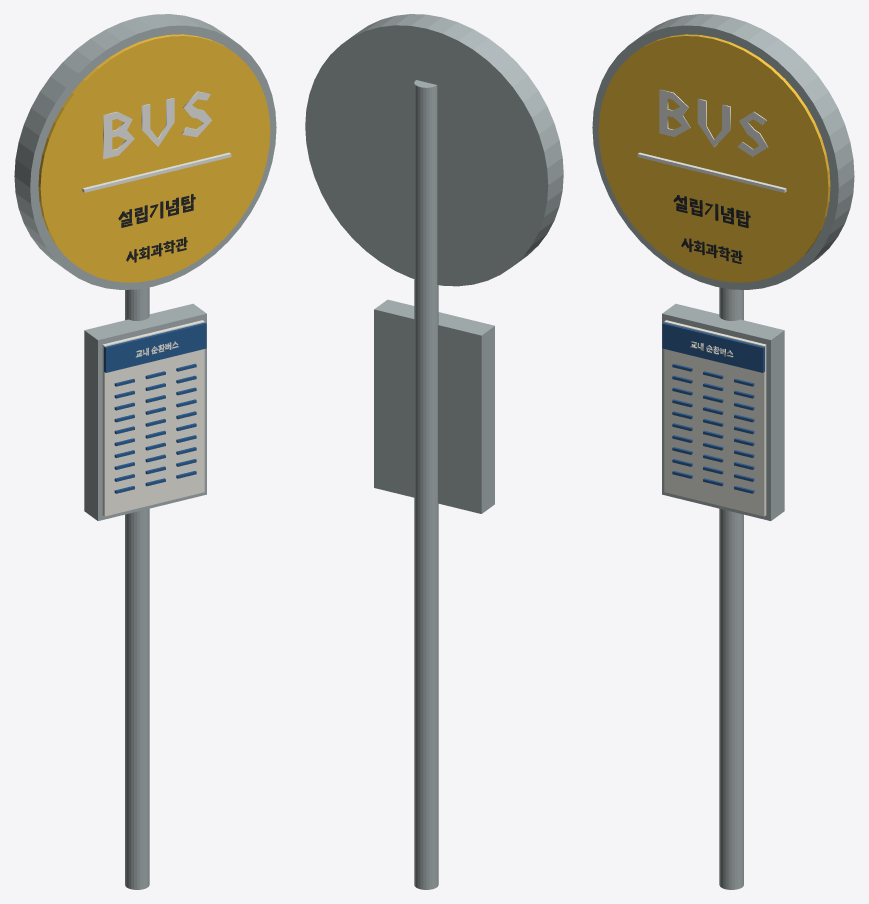
Rendered from bus_stop_sign.glb.
3 renders of one model, left to right at view 1: azimuth 30°, elevation 25°; view 2: azimuth 150°, elevation 25°; view 3: azimuth 330°, elevation 25°, orthographic.
Parts seen in each view (by area): view 1: Circular yellow BUS face, CHOSUN_BUS_STOP_SIGN__Brushed aluminium, Timetable white face, CHOSUN_BUS_STOP_SIGN__Campus blue, CHOSUN_BUS_STOP_SIGN__Coach pearl ivory, CHOSUN_BUS_STOP_SIGN__Rubber charcoal; view 2: CHOSUN_BUS_STOP_SIGN__Brushed aluminium; view 3: Circular yellow BUS face, CHOSUN_BUS_STOP_SIGN__Brushed aluminium, Timetable white face, CHOSUN_BUS_STOP_SIGN__Campus blue, CHOSUN_BUS_STOP_SIGN__Coach pearl ivory, CHOSUN_BUS_STOP_SIGN__Rubber charcoal.
Part boxes in pixels (bbox=[...]): Circular yellow BUS face: bbox=[38, 34, 270, 282]; CHOSUN_BUS_STOP_SIGN__Brushed aluminium: bbox=[14, 14, 276, 889]; Timetable white face: bbox=[102, 320, 204, 516]; CHOSUN_BUS_STOP_SIGN__Campus blue: bbox=[104, 322, 206, 493]; CHOSUN_BUS_STOP_SIGN__Coach pearl ivory: bbox=[82, 91, 231, 357]; CHOSUN_BUS_STOP_SIGN__Rubber charcoal: bbox=[118, 194, 195, 262]; CHOSUN_BUS_STOP_SIGN__Brushed aluminium: bbox=[305, 14, 563, 889]; Circular yellow BUS face: bbox=[598, 34, 830, 282]; CHOSUN_BUS_STOP_SIGN__Brushed aluminium: bbox=[592, 14, 854, 889]; Timetable white face: bbox=[664, 320, 766, 516]; CHOSUN_BUS_STOP_SIGN__Campus blue: bbox=[662, 322, 764, 493]; CHOSUN_BUS_STOP_SIGN__Coach pearl ivory: bbox=[637, 89, 786, 357]; CHOSUN_BUS_STOP_SIGN__Rubber charcoal: bbox=[673, 195, 750, 263].
Size of the model in its own units: 1.04 by 3.5 by 0.195.
